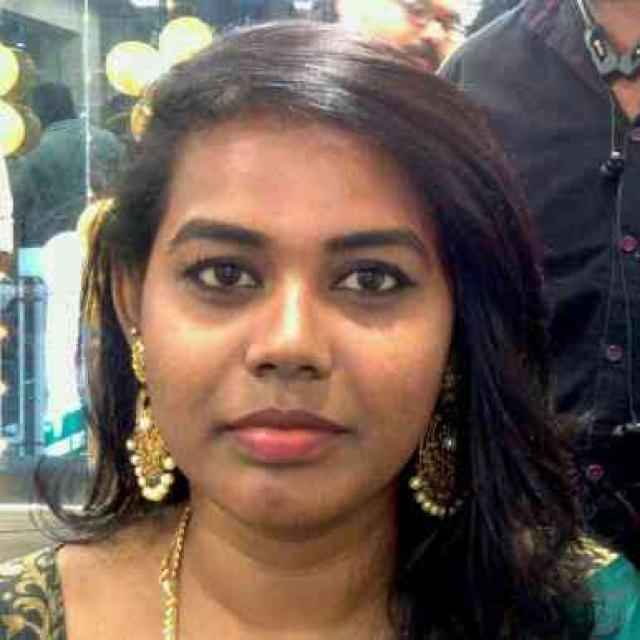puffy_eyes: (173, 281, 258, 323), (323, 292, 409, 321)
